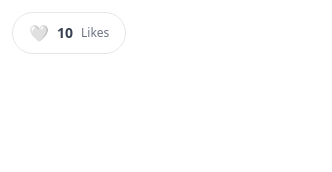
Test: Phase 8: Reader Engagement › LikeButton Component › optimistically updates like count and heart when authenticated user clicks
Click the button with aria-label "Like article" at (69, 33), box [12,12,126,54]
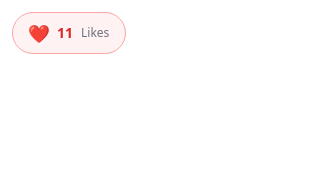
Now the text "11" is shown, box [57,23,73,43]
Now the text "❤️" is shown, box [28,20,50,46]
